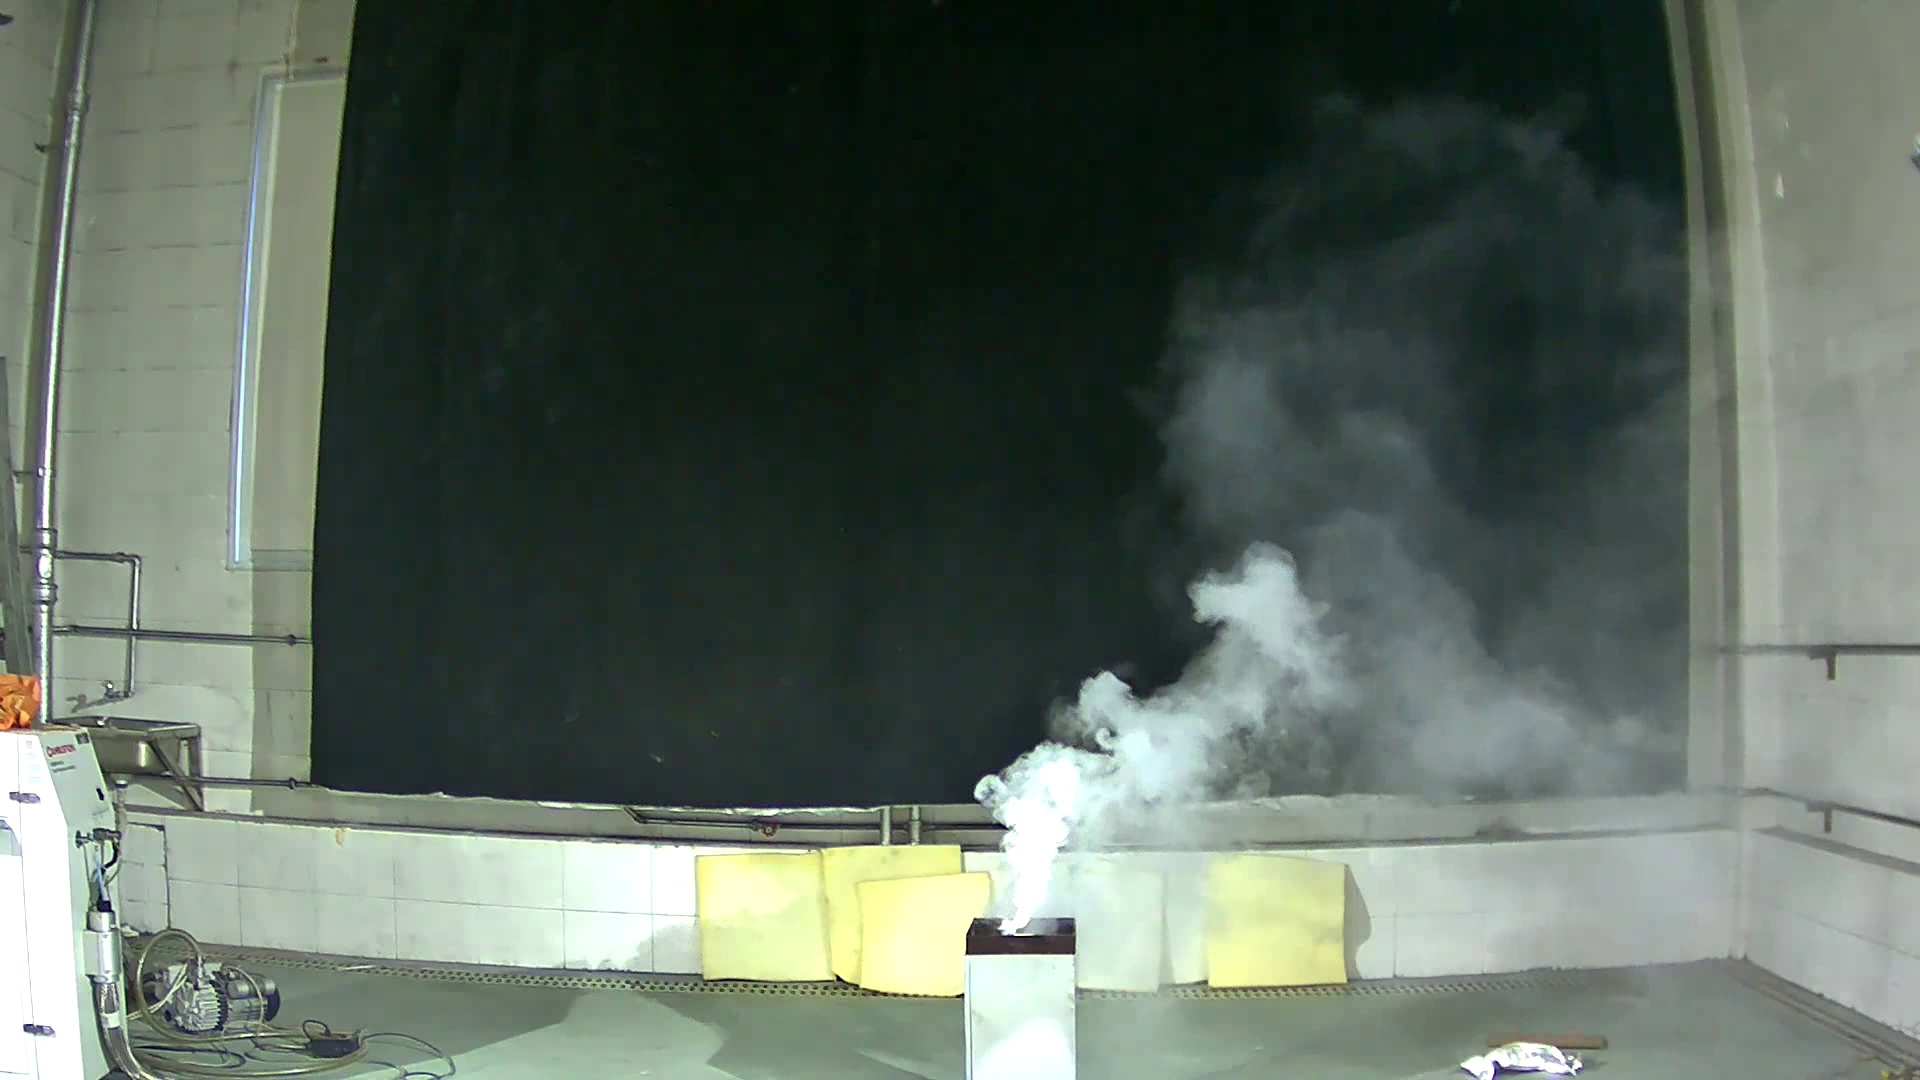smoke: (898, 316, 1577, 945)
